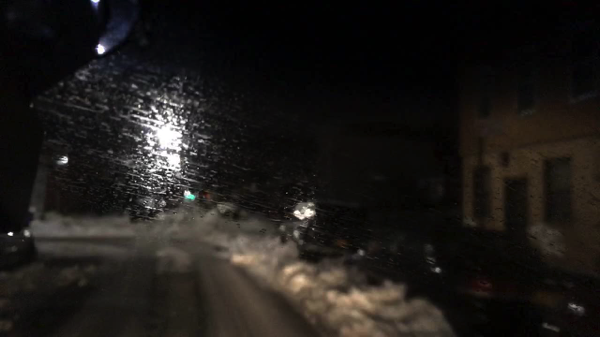car: (343, 221, 544, 337), (276, 198, 372, 264), (542, 267, 599, 337), (0, 229, 36, 270), (128, 196, 158, 219), (148, 188, 176, 210), (214, 198, 243, 219), (196, 188, 220, 209)
